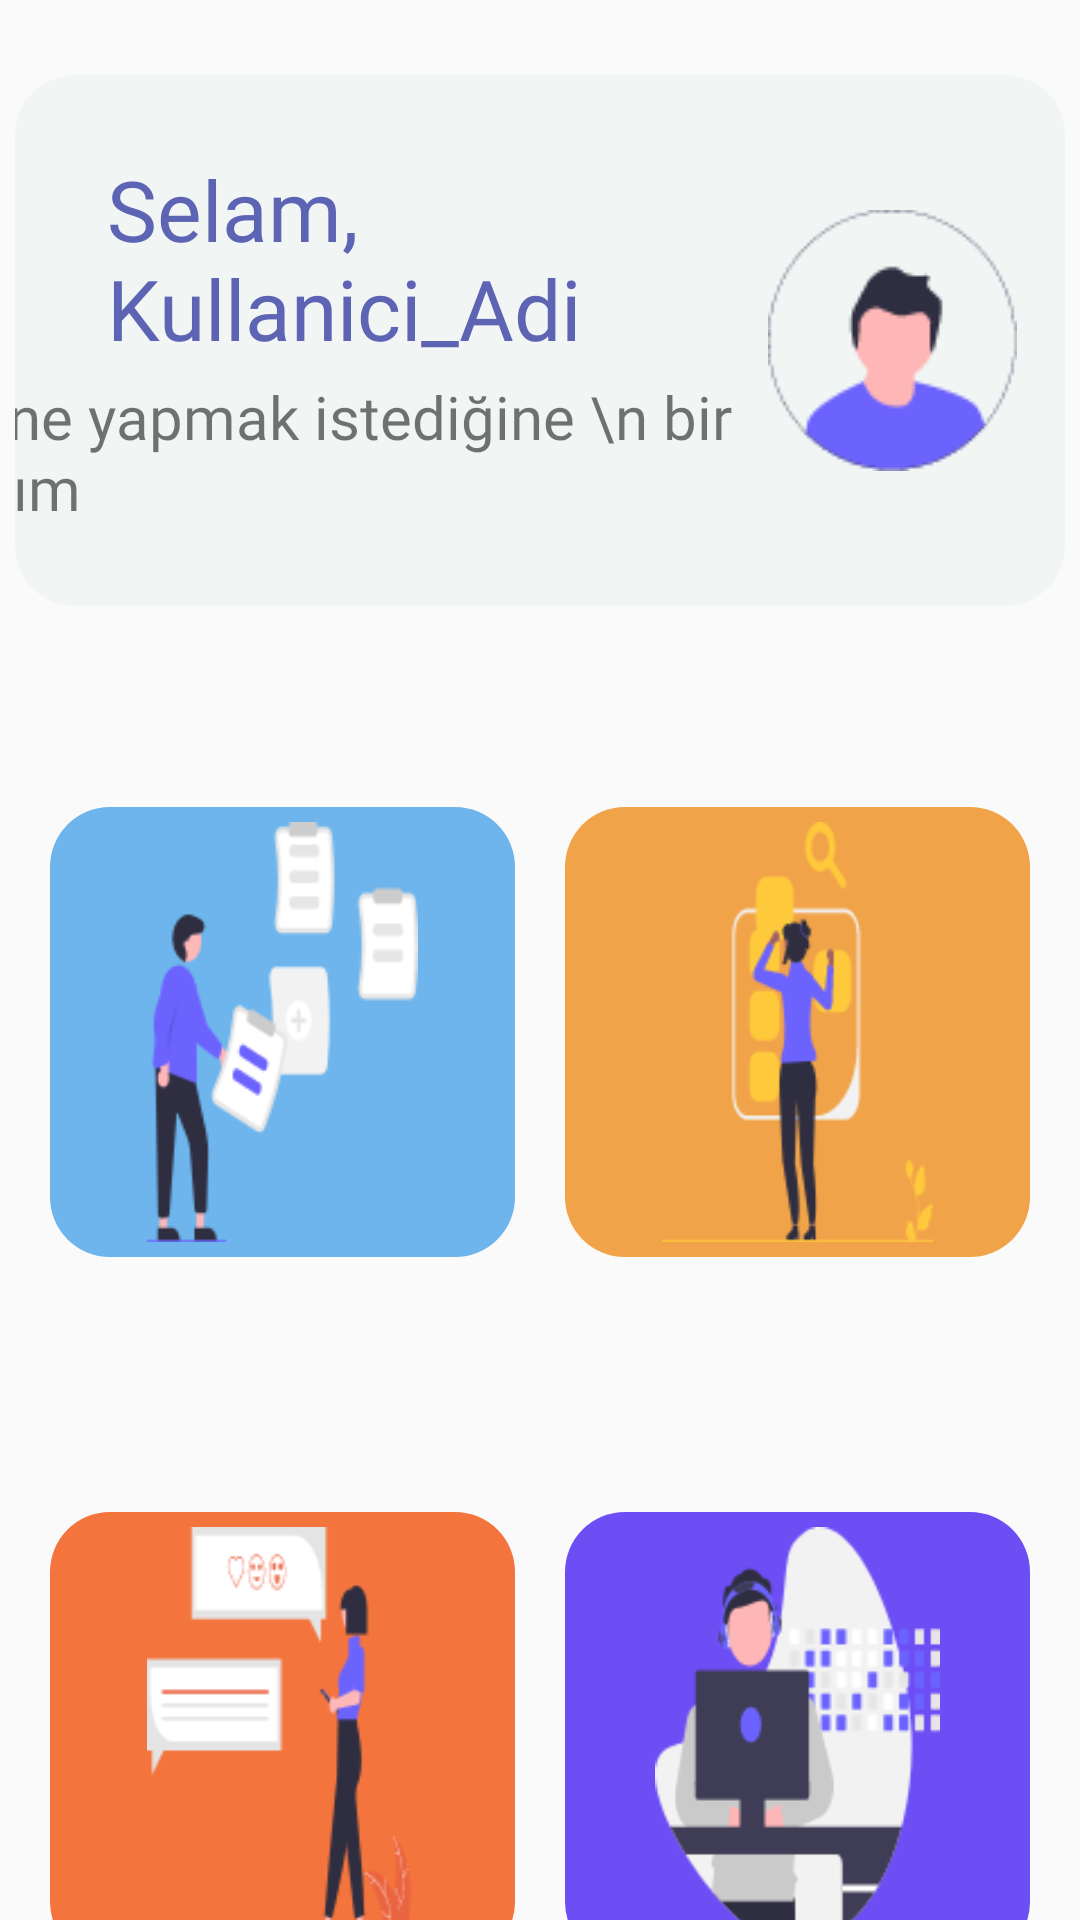

Icons on this 1080w x 1920h Android screen, each with its box as (x1, y1, x2, y2):
profile pic: (768, 210, 1017, 471)
